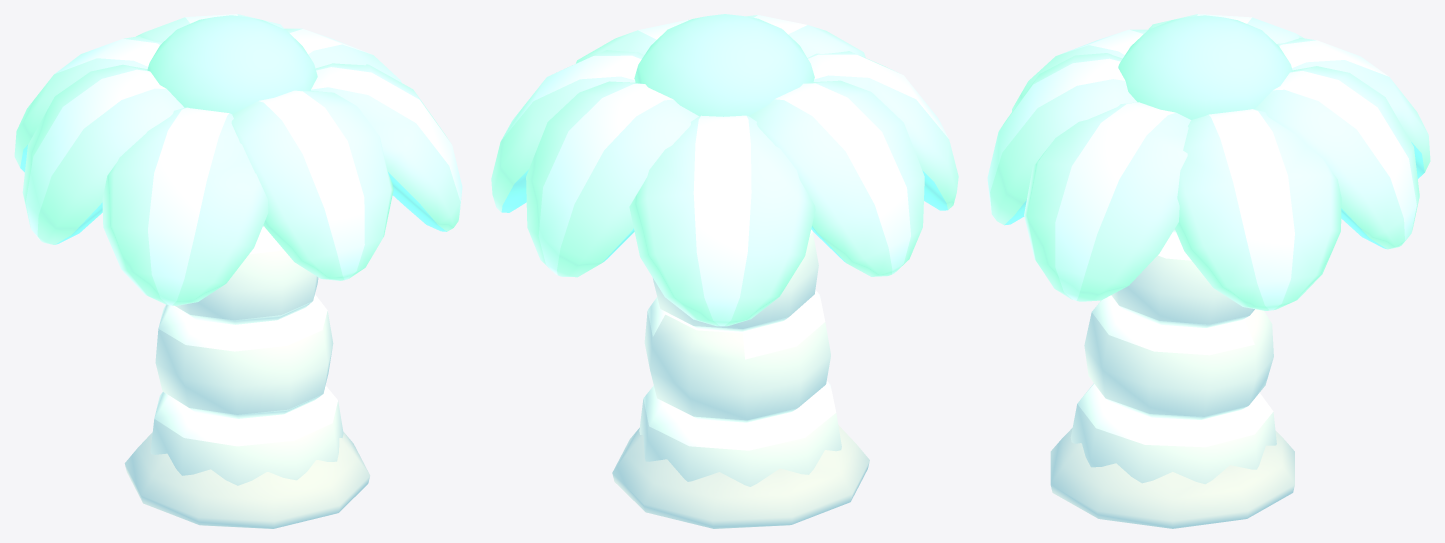
The model's file is props__PalmTree.glb.
The picture shows the model from 3 angles, left to right: view 1: azimuth 30°, elevation 25°; view 2: azimuth 150°, elevation 25°; view 3: azimuth 270°, elevation 25°; orthographic projection. The views are drawn at different scales.
Visible parts, largest first — view 1: PalmTree; view 2: PalmTree; view 3: PalmTree.
Part boxes in pixels (bbox=[...]): PalmTree: bbox=[14, 14, 462, 528]; PalmTree: bbox=[491, 14, 958, 528]; PalmTree: bbox=[987, 14, 1430, 528].
Size of the model in its own units: 13.05 by 14.84 by 13.05.
